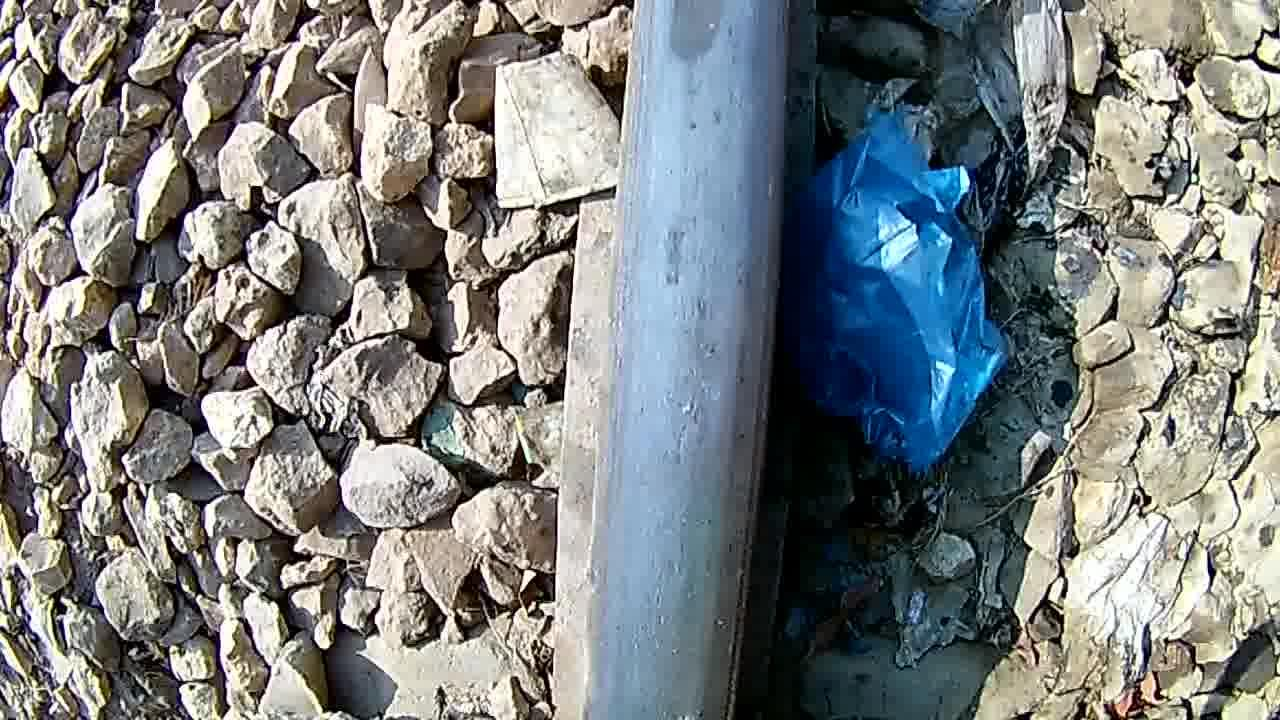bolt_missing: (637, 0, 752, 66)
